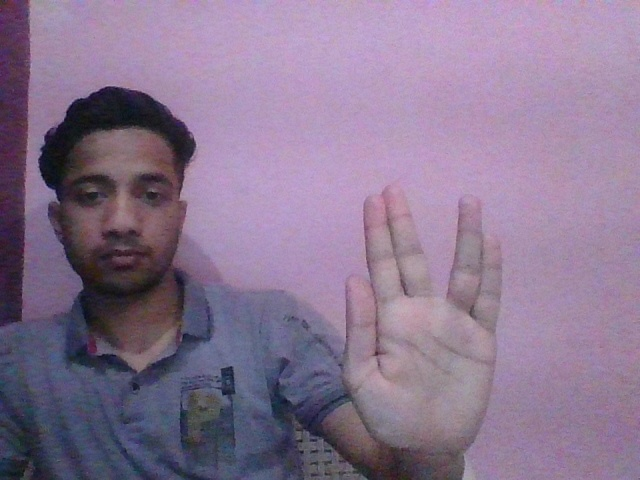livelong: (343, 182, 504, 459)
